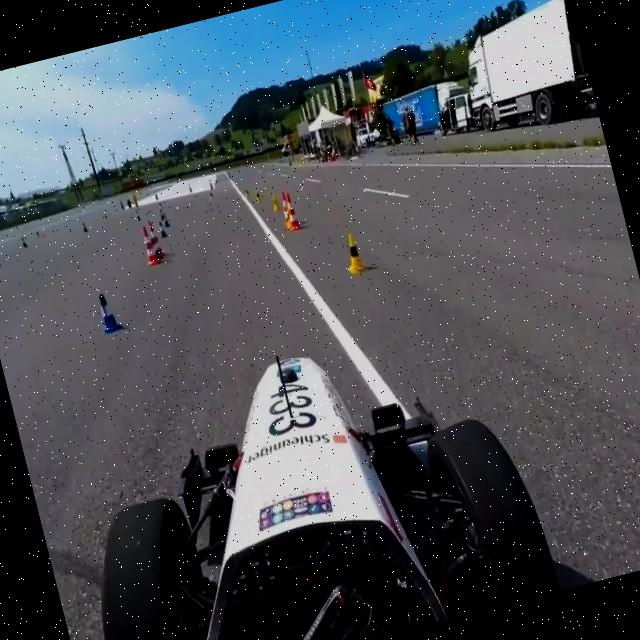blue_cone: (93, 284, 119, 330)
large_orange_cone: (138, 224, 166, 266), (278, 194, 300, 228)
yellow_cone: (334, 223, 368, 280)
